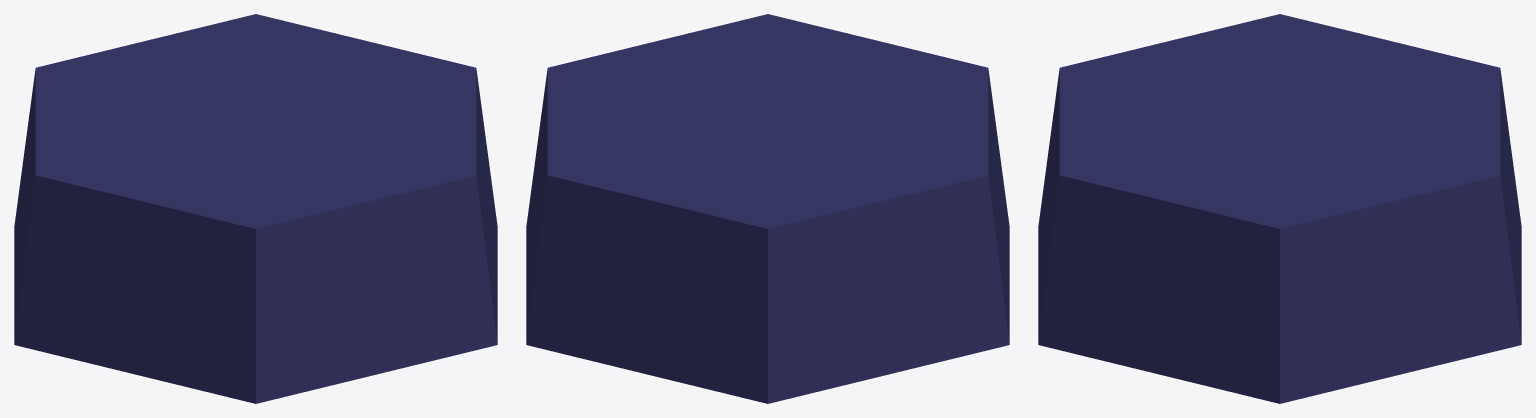
Rendered from windmilltower_base.fbx.
3 views of the same model, side by side, from view 1: azimuth 30°, elevation 25°; view 2: azimuth 150°, elevation 25°; view 3: azimuth 270°, elevation 25° (orthographic).
Visible parts, largest first — view 1: polySurface100; view 2: polySurface100; view 3: polySurface100.
Boxes of the visible parts, x1,y1,x2,y2 form: polySurface100: (14, 14, 497, 403); polySurface100: (526, 14, 1009, 403); polySurface100: (1038, 14, 1521, 403).
Size of the model in its own units: 5.35 by 1.74 by 4.64.
